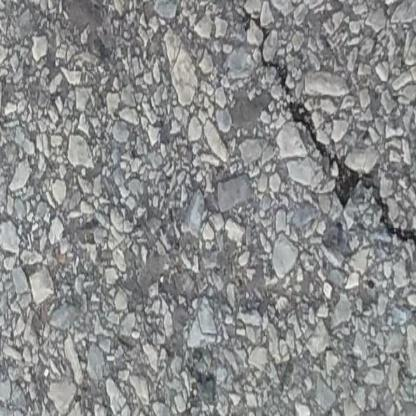Cracks: (242, 9, 416, 291)
